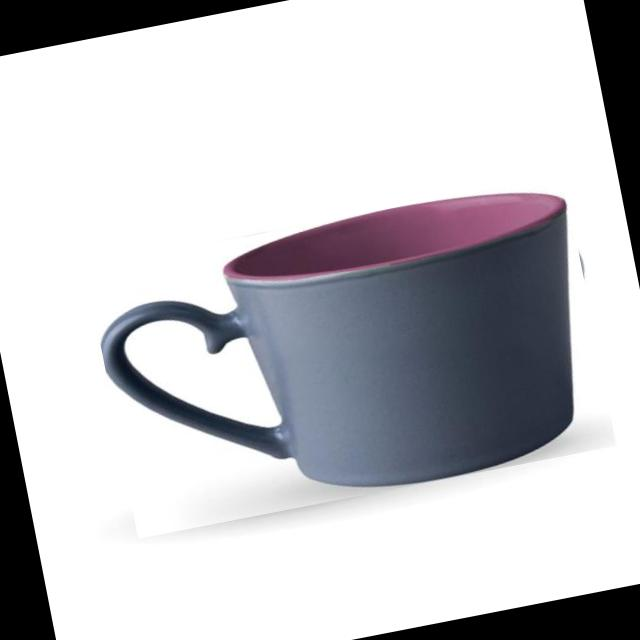Coffee Mug: (86, 175, 616, 538)
